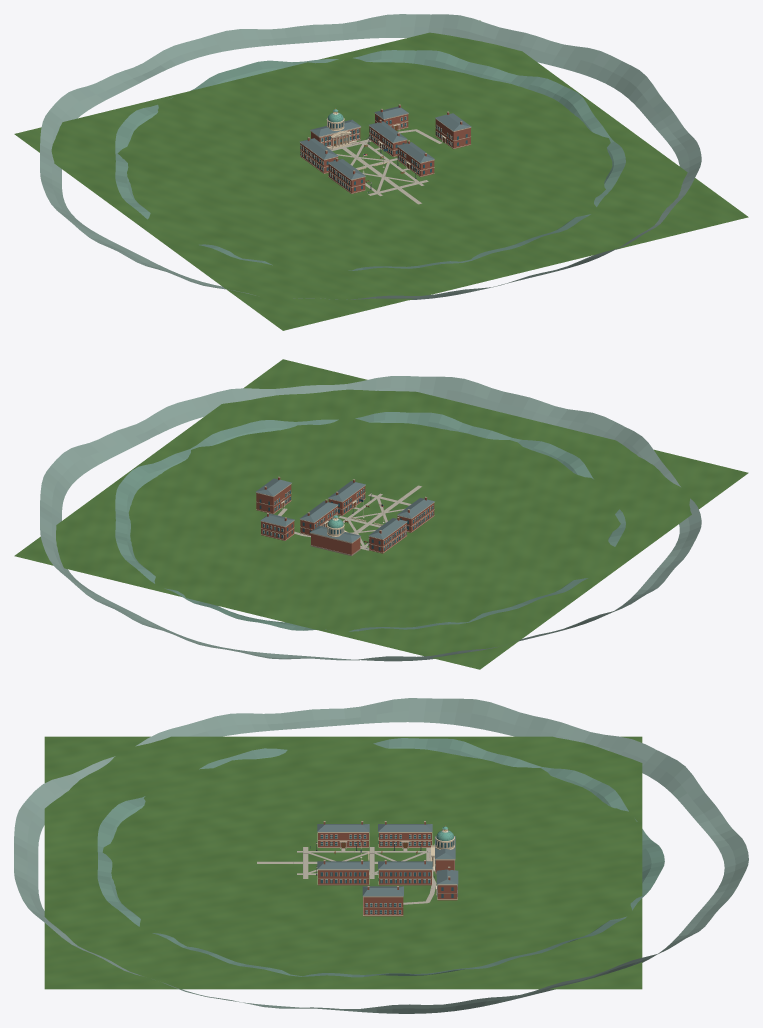
File: site-plan.glb
The picture shows the model from 3 angles, top to bottom: view 1: azimuth 30°, elevation 25°; view 2: azimuth 150°, elevation 25°; view 3: azimuth 270°, elevation 25°; orthographic projection. The views are drawn at different scales.
Visible parts, largest first — view 1: Campus Terrain • lawn, Distant wooded hillside.001, Distant wooded hillside, Academic fired brick, Dark slate, Rush Rhees Library • rotunda and reading rooms, Indiana limestone, Library glazing, Carved ivory stone; view 2: Campus Terrain • lawn, Distant wooded hillside.001, Distant wooded hillside, Academic fired brick, Dark slate, Rush Rhees Library • rotunda and reading rooms, Library glazing, Indiana limestone, Carved ivory stone; view 3: Campus Terrain • lawn, Distant wooded hillside.001, Distant wooded hillside, Academic fired brick, Dark slate, Library glazing, Indiana limestone, Carved ivory stone, Rush Rhees Library • rotunda and reading rooms.
Boxes of the visible parts, <box> form: Campus Terrain • lawn: <box>14,20,748,330</box>; Distant wooded hillside.001: <box>40,14,701,300</box>; Distant wooded hillside: <box>115,50,625,270</box>; Academic fired brick: <box>300,105,470,193</box>; Dark slate: <box>299,106,471,179</box>; Rush Rhees Library • rotunda and reading rooms: <box>310,108,361,149</box>; Indiana limestone: <box>300,113,471,193</box>; Library glazing: <box>300,116,467,190</box>; Carved ivory stone: <box>300,116,452,190</box>; Campus Terrain • lawn: <box>14,359,748,669</box>; Distant wooded hillside.001: <box>40,376,701,661</box>; Distant wooded hillside: <box>115,412,625,631</box>; Academic fired brick: <box>256,477,434,553</box>; Dark slate: <box>255,478,434,539</box>; Rush Rhees Library • rotunda and reading rooms: <box>310,514,361,556</box>; Library glazing: <box>259,489,433,550</box>; Indiana limestone: <box>256,483,434,553</box>; Carved ivory stone: <box>262,488,433,550</box>; Campus Terrain • lawn: <box>44,736,642,989</box>; Distant wooded hillside.001: <box>14,698,748,1013</box>; Distant wooded hillside: <box>97,738,664,977</box>; Academic fired brick: <box>318,822,457,916</box>; Dark slate: <box>317,824,458,896</box>; Library glazing: <box>320,833,457,913</box>; Indiana limestone: <box>317,832,457,915</box>; Carved ivory stone: <box>316,834,457,914</box>; Rush Rhees Library • rotunda and reading rooms: <box>429,825,455,874</box>.
Bounding box in the file's own units: 334 × 21.51 × 332.
